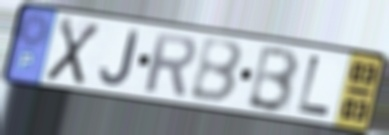B: (244, 44, 302, 115), (188, 37, 246, 106)
J: (98, 28, 141, 88)
L: (295, 52, 334, 118)
R: (142, 29, 198, 99)
X: (42, 15, 102, 88)
